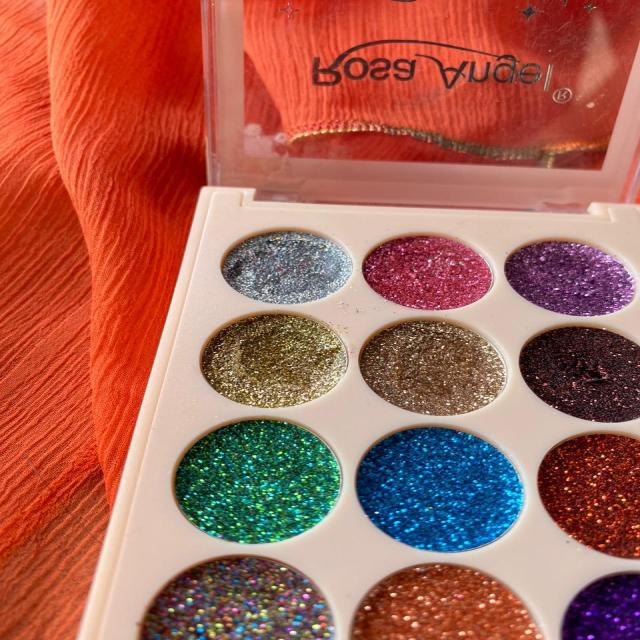eye shade: (126, 187, 640, 640)
